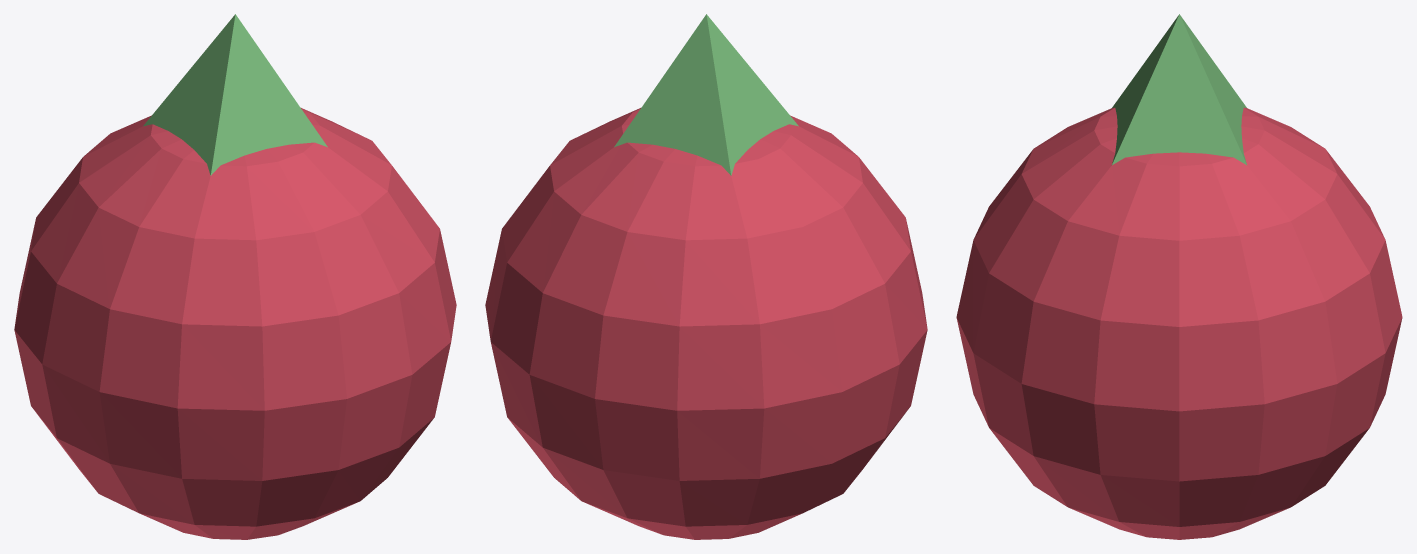
File: apple_1.glb
The picture shows the model from 3 angles, left to right: view 1: azimuth 30°, elevation 25°; view 2: azimuth 150°, elevation 25°; view 3: azimuth 270°, elevation 25°; orthographic projection.
Parts seen in each view (by area): view 1: Mesh_Mesh_head_geo.001_lambert2SG.001; view 2: Mesh_Mesh_head_geo.001_lambert2SG.001; view 3: Mesh_Mesh_head_geo.001_lambert2SG.001.
Boxes of the visible parts, left/top/right/bottom form: Mesh_Mesh_head_geo.001_lambert2SG.001: left=14, top=14, right=456, bottom=539; Mesh_Mesh_head_geo.001_lambert2SG.001: left=485, top=14, right=927, bottom=539; Mesh_Mesh_head_geo.001_lambert2SG.001: left=956, top=14, right=1402, bottom=539.
Size of the model in its own units: 1 by 1.25 by 1.
